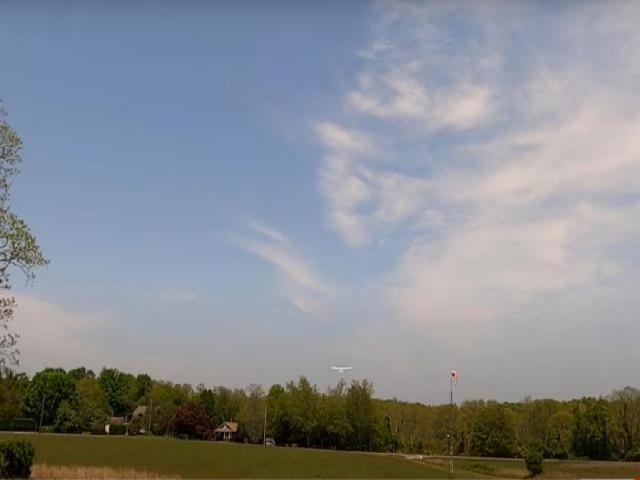iha: (332, 364, 350, 373)
